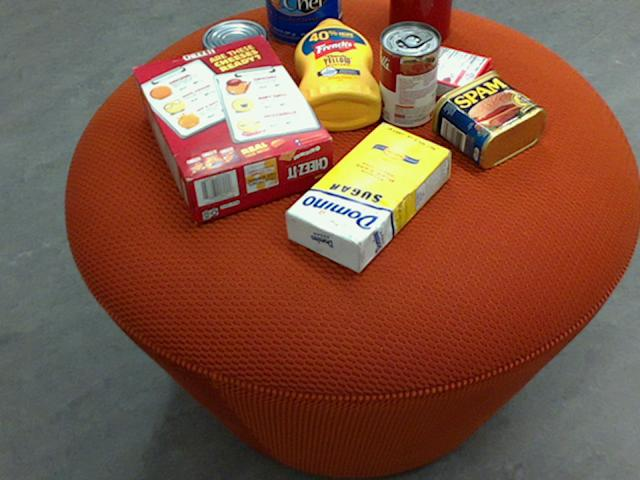cracker_box: (129, 33, 332, 220)
gelatin_box: (402, 43, 491, 105)
large_marker: (407, 0, 425, 38)
master_chef_can: (264, 0, 341, 43)
mug: (387, 0, 451, 44)
mustard_bottle: (293, 18, 379, 130)
potted_meat_can: (429, 70, 543, 167)
sugar_box: (285, 120, 451, 273)
tomato_soup_can: (378, 20, 439, 126)
tuna_fish_can: (199, 19, 268, 75)
